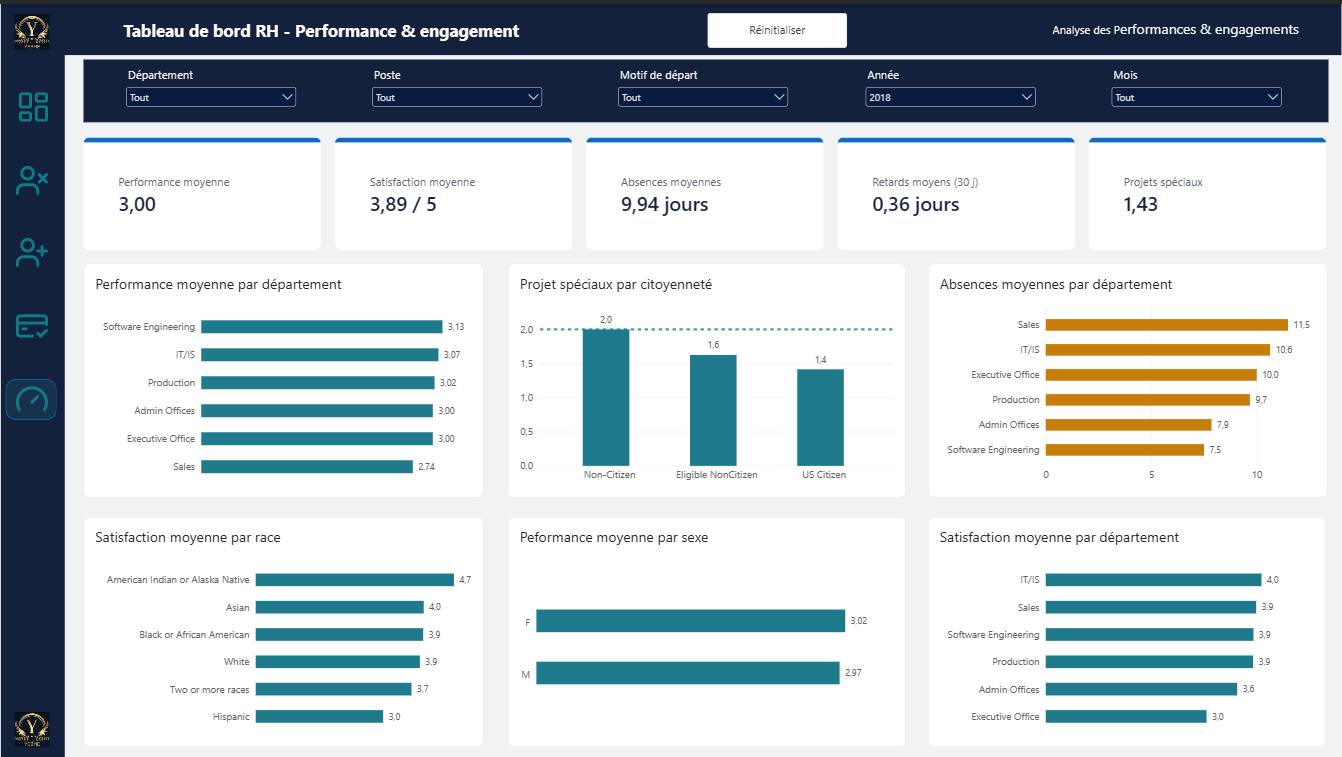

Layout of this report page (visuals, bound fields, positions):
{"tool":"powerbi","page":{"name":"Performance & engagement","canvas":[1920,1080],"ordinal":4},"visuals":[{"type":"image","box":[19.3,15,50,50],"z":0,"group":"g1"},{"type":"shape","box":[117.1,80.5,1783.5,90.3],"z":0},{"type":"shape","box":[0,0,91.5,1080.8],"z":1000},{"type":"image","box":[19.3,1014.1,50,50],"z":1000,"group":"g1"},{"type":"shape","box":[0,0,1920.1,73.2],"z":2000},{"type":"image","box":[21.9,122,50,50],"z":2000,"group":"g1"},{"type":"cardVisual","fields":{"Data":["_Mesures.Performance moyenne","_Mesures.Satisfaction moyenne Texte","_Mesures.Absences moyenne Texte","_Mesures.Retards moyens (30 j) Texte","_Mesures.Projets spéciaux"]},"box":[117.1,190.3,1783.5,161],"z":3000},{"type":"image","box":[19.5,226.9,50,50],"z":3000,"group":"g1"},{"type":"slicer","fields":{"Values":["dim_date.Month name"]},"box":[1585.9,90.3,253.7,73.2],"z":4000},{"type":"image","box":[19.5,331.8,50,50],"z":4000,"group":"g1"},{"type":"clusteredBarChart","title":"Performance moyenne par département","fields":{"Category":["dim_department.Department"],"Y":["_Mesures.Performance moyenne"]},"box":[118.9,371.8,573,335.2],"z":5000},{"type":"image","box":[19.5,436.7,50,50],"z":5000,"group":"g1"},{"type":"image","box":[19.5,541.6,50,50],"z":6000,"group":"g1"},{"type":"clusteredBarChart","title":"Peformance moyenne par sexe","fields":{"Category":["dim_employee.Sex"],"Y":["_Mesures.Performance moyenne"]},"box":[725.3,734.5,569.9,329.1],"z":6000},{"type":"clusteredBarChart","title":"Absences moyennes par département","fields":{"Category":["dim_department.Department"],"Y":["_Mesures.Absences moyenne"]},"box":[1328.8,371.8,573,335.2],"z":7000},{"type":"clusteredBarChart","title":"Satisfaction moyenne par département ","fields":{"Category":["dim_department.Department"],"Y":["_Mesures.Satisfaction moyenne"]},"box":[1328.8,734.5,569.9,329.1],"z":8000},{"type":"clusteredBarChart","title":"Satisfaction moyenne par race","fields":{"Category":["dim_employee.RaceDesc"],"Y":["_Mesures.Satisfaction moyenne"]},"box":[118.9,734.5,573,329.1],"z":9000},{"type":"clusteredColumnChart","title":"Projet spéciaux par citoyenneté","fields":{"Category":["dim_employee.CitizenDesc"],"Y":["_Mesures.Projets spéciaux"]},"box":[725.3,371.8,569.9,335.2],"z":10000},{"type":"slicer","fields":{"Values":["dim_date.Year"]},"box":[1232.7,90.3,253.7,73.2],"z":11000},{"type":"slicer","fields":{"Values":["dim_emp_status.TermReason"]},"box":[879.6,90.3,253.7,73.2],"z":12000},{"type":"slicer","fields":{"Values":["dim_position.Position"]},"box":[526.4,90.3,253.7,73.2],"z":13000},{"type":"slicer","fields":{"Values":["dim_department.Department"]},"box":[173.2,90.3,253.7,73.2],"z":14000},{"type":"textbox","box":[138.4,20.9,642.3,33.9],"z":15000},{"type":"actionButton","box":[1011.5,12.4,200,50],"z":16000},{"type":"textbox","box":[1506.6,20.9,357.7,33.9],"z":17000},{"type":"group","id":"g1","title":"nav","box":[19.3,15,52.6,1049.1],"z":18000},{"type":"shape","box":[7.3,536.8,73.2,58.6],"z":19000}]}

Visuals, with their boxes on the page's 1920x1080 design canvas (x1, y1, x2, y2). These are canvas units, not pixel positions in the 1342x757 screenshot, which may show the page scaled, cropped or inside an application window:
image: bbox(19, 15, 69, 65)
shape: bbox(117, 80, 1901, 171)
shape: bbox(0, 0, 92, 1081)
image: bbox(19, 1014, 69, 1064)
shape: bbox(0, 0, 1920, 73)
image: bbox(22, 122, 72, 172)
cardVisual - _Mesures.Performance moyenne x _Mesures.Satisfaction moyenne Texte: bbox(117, 190, 1901, 351)
image: bbox(20, 227, 70, 277)
slicer - dim_date.Month name: bbox(1586, 90, 1840, 164)
image: bbox(20, 332, 70, 382)
"Performance moyenne par département" clusteredBarChart: bbox(119, 372, 692, 707)
image: bbox(20, 437, 70, 487)
image: bbox(20, 542, 70, 592)
"Peformance moyenne par sexe" clusteredBarChart: bbox(725, 734, 1295, 1064)
"Absences moyennes par département" clusteredBarChart: bbox(1329, 372, 1902, 707)
"Satisfaction moyenne par département " clusteredBarChart: bbox(1329, 734, 1899, 1064)
"Satisfaction moyenne par race" clusteredBarChart: bbox(119, 734, 692, 1064)
"Projet spéciaux par citoyenneté" clusteredColumnChart: bbox(725, 372, 1295, 707)
slicer - dim_date.Year: bbox(1233, 90, 1486, 164)
slicer - dim_emp_status.TermReason: bbox(880, 90, 1133, 164)
slicer - dim_position.Position: bbox(526, 90, 780, 164)
slicer - dim_department.Department: bbox(173, 90, 427, 164)
textbox: bbox(138, 21, 781, 55)
actionButton: bbox(1012, 12, 1212, 62)
textbox: bbox(1507, 21, 1864, 55)
"nav" group: bbox(19, 15, 72, 1064)
shape: bbox(7, 537, 80, 595)
